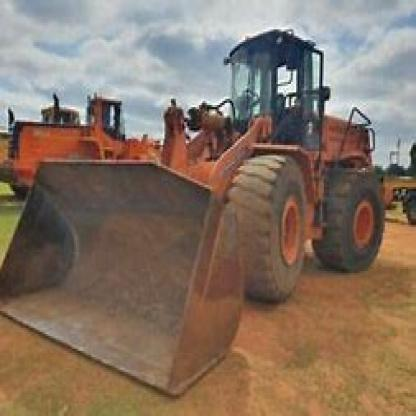bull_dozer/loader/grader: (3, 25, 414, 387)
